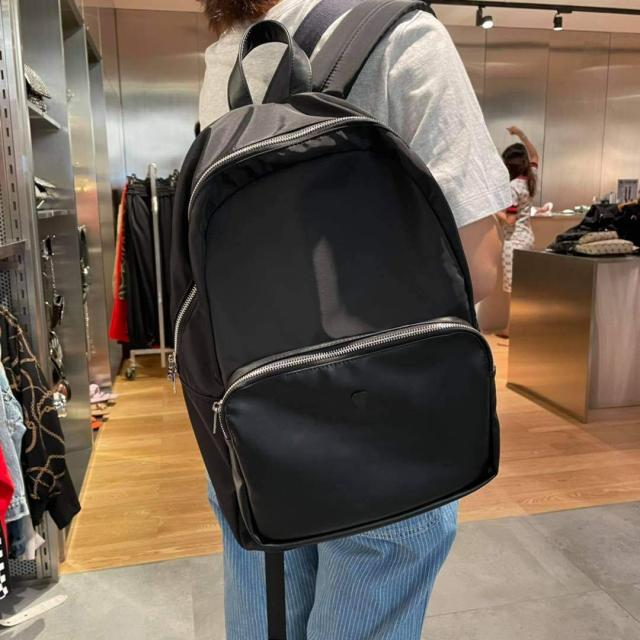handbag: (163, 85, 489, 560)
